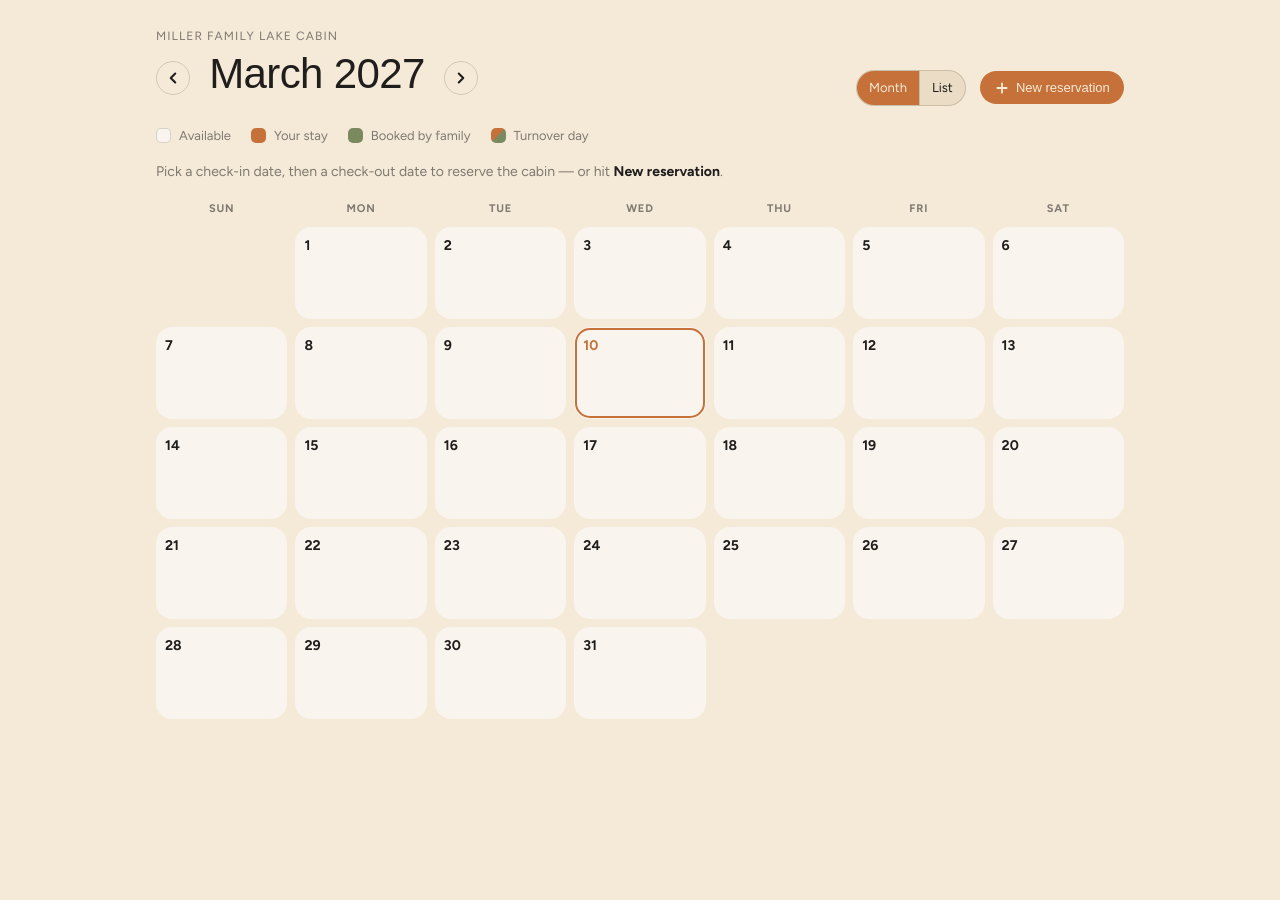
Test: CAP-020 Book a stay › CAP-020 · The dialog counts nights (Jul 10 → 2027-07-11 shows "1 night at the cabin")
The image size is (1280, 900).
Click the button "New reservation" at (1052, 88), box top-left (980, 71), bottom-right (1124, 104)
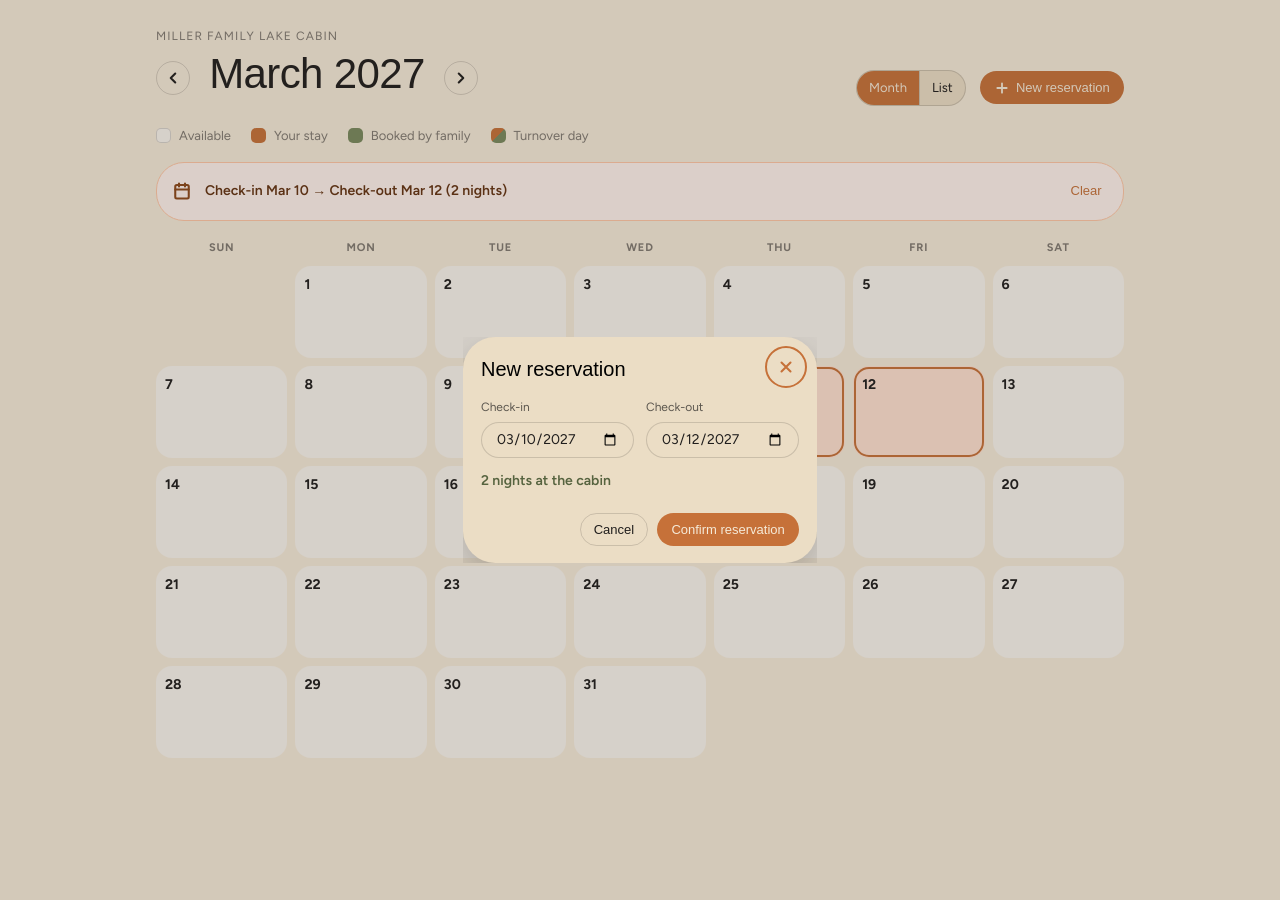
Type "2027-07-10" into the date field with id "booking-check-in" at (558, 440), box top-left (481, 422), bottom-right (634, 458)
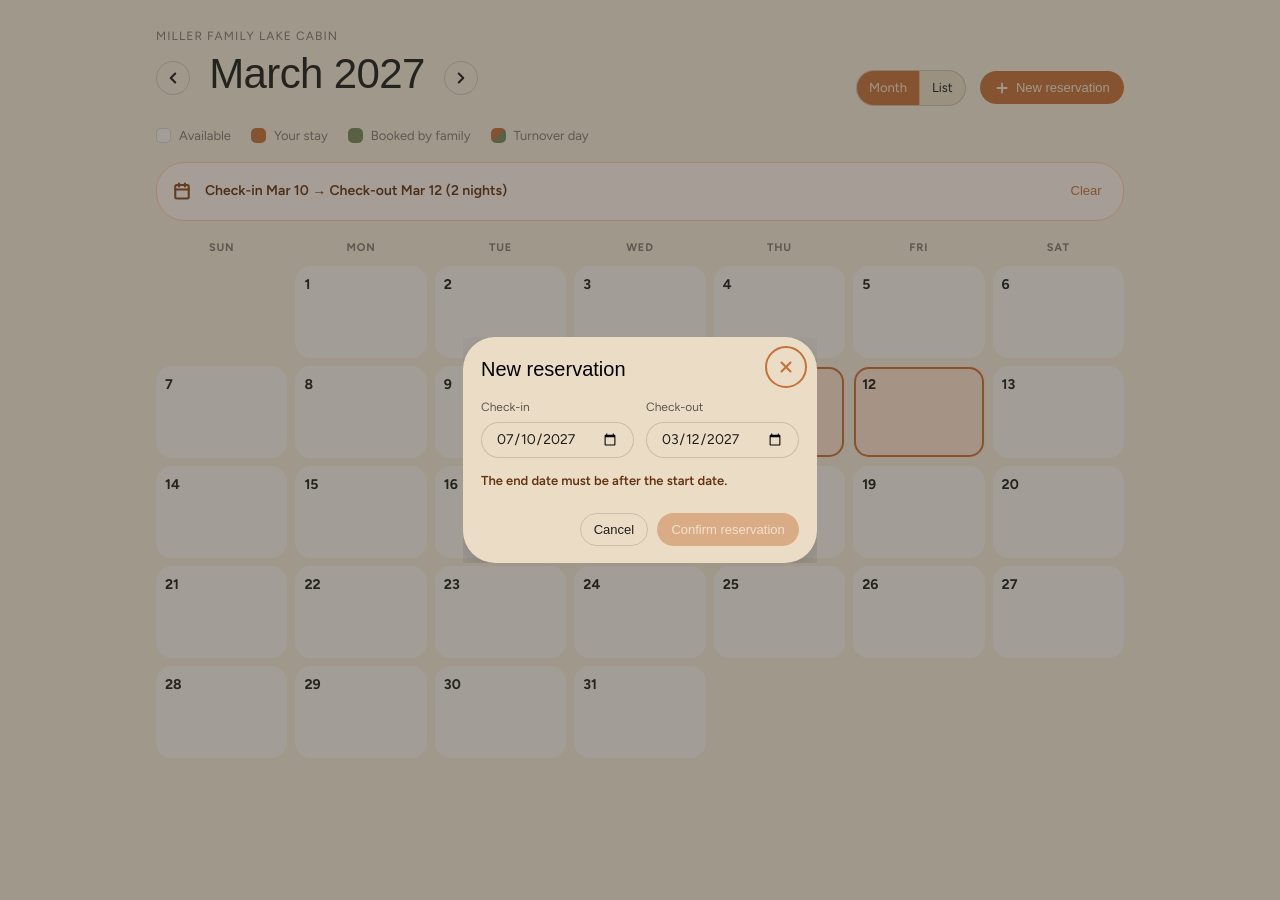
Type "2027-07-11" into the date field with id "booking-check-out" at (722, 440), box top-left (646, 422), bottom-right (799, 458)
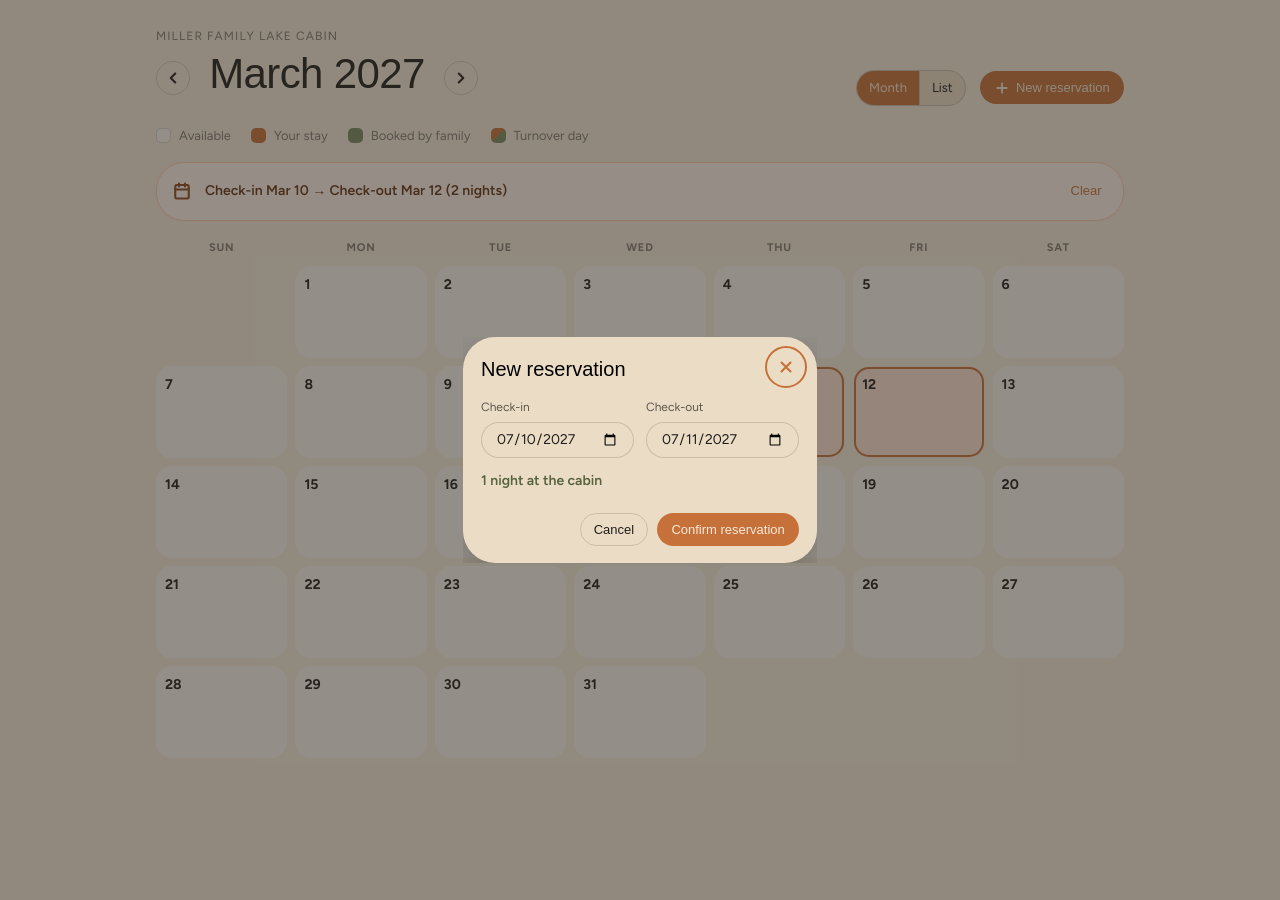
expect the text "1 night at the cabin" is shown: met, box top-left (481, 472), bottom-right (602, 489)
